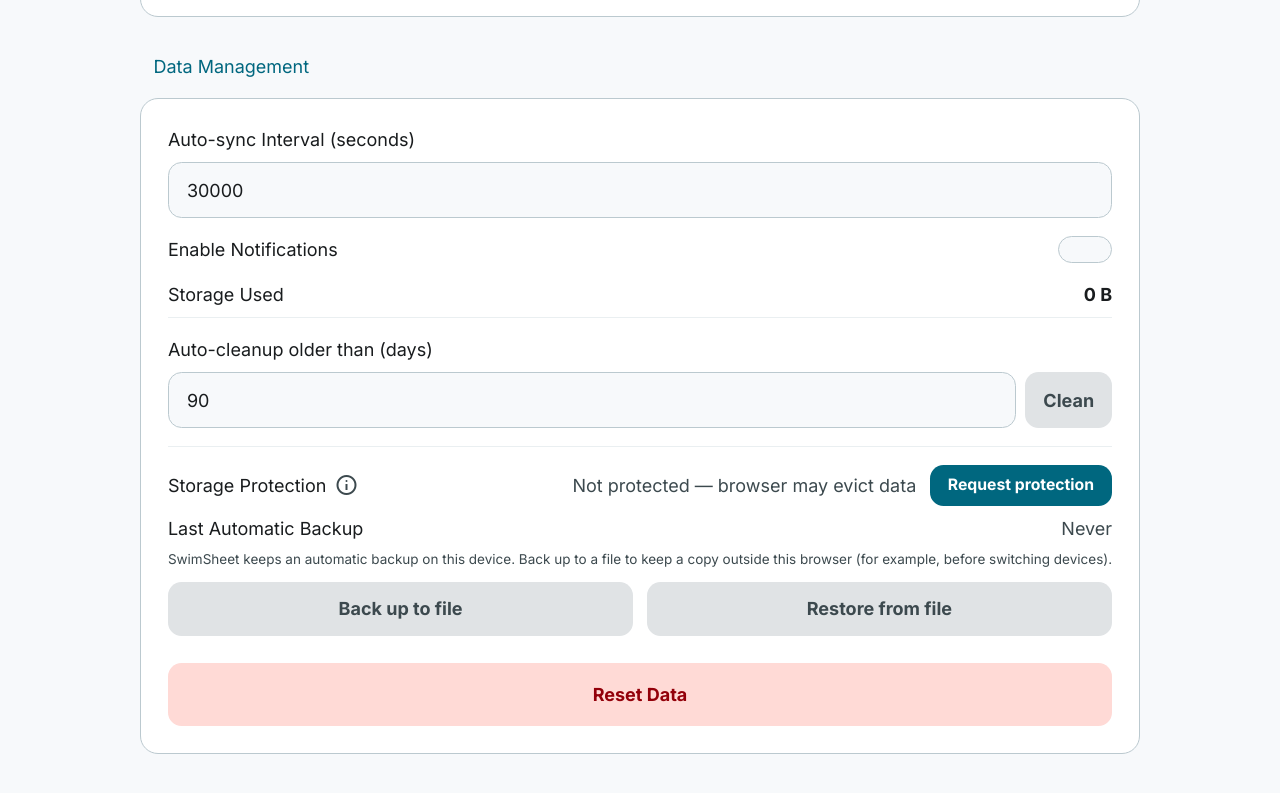
Settings analytics › does not track cleanup_run when cleanup fails
(page scrolled)
Click the button "Clean".
click(1069, 400)  # box [1025,372,1112,428]
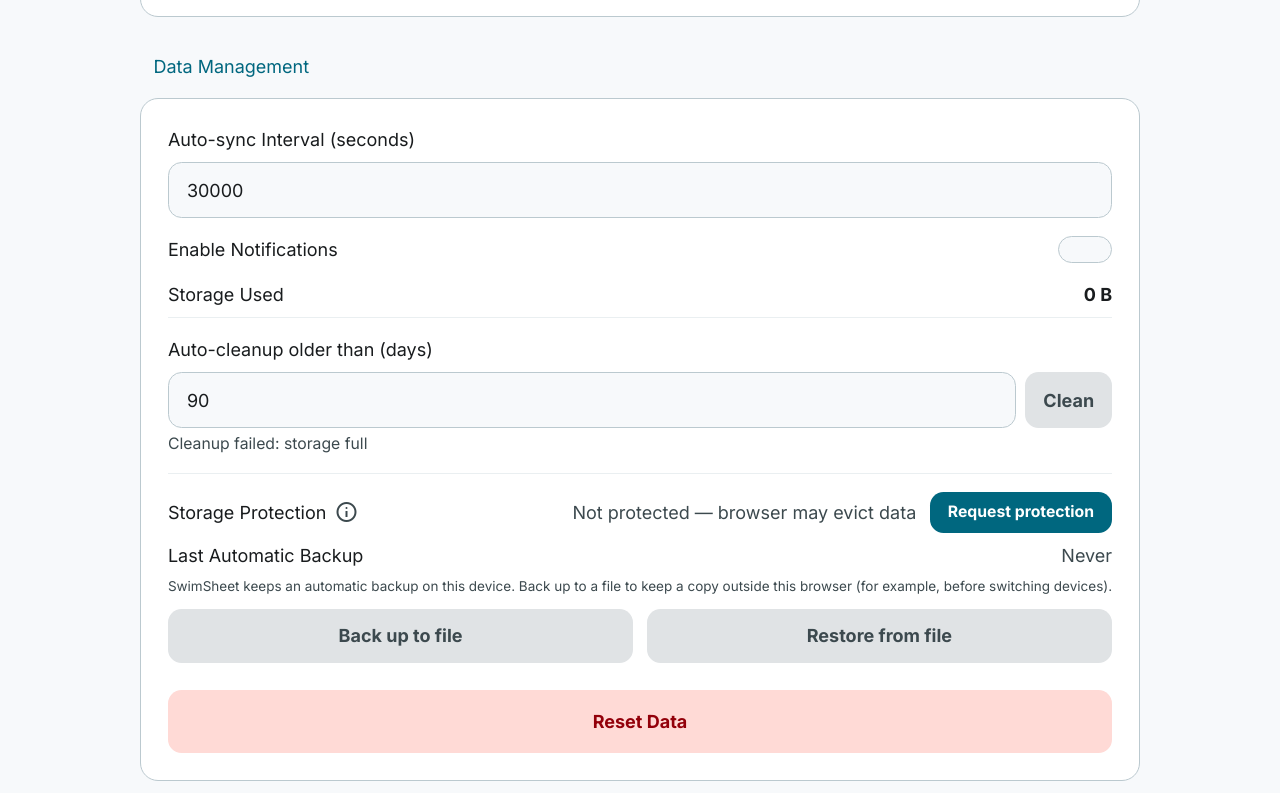
Check: the text "Cleanup failed: storage full" is shown, box [168,434,368,452]
